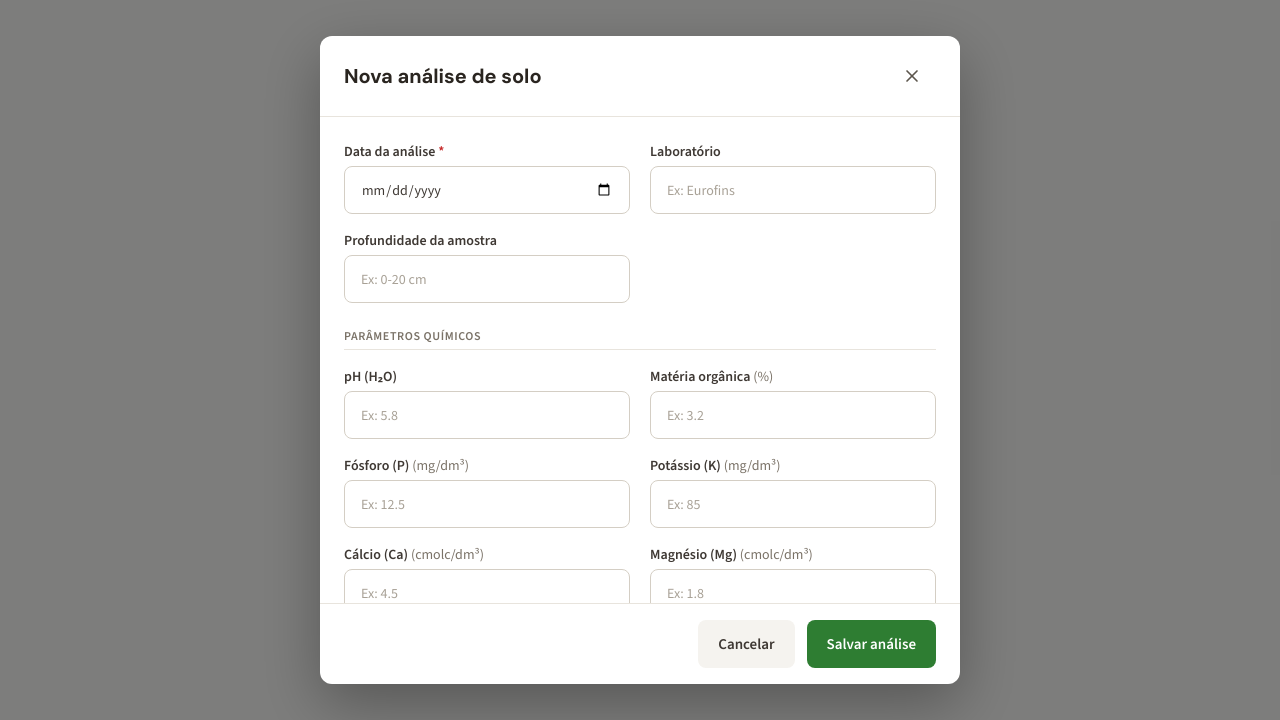
Test: AddSoilAnalysisModal › shows error state on API failure
Type "2026-01-15" into the date field labelled "Data da análise *".
click(487, 190); type("2026-01-15")  # box [344,166,630,214]
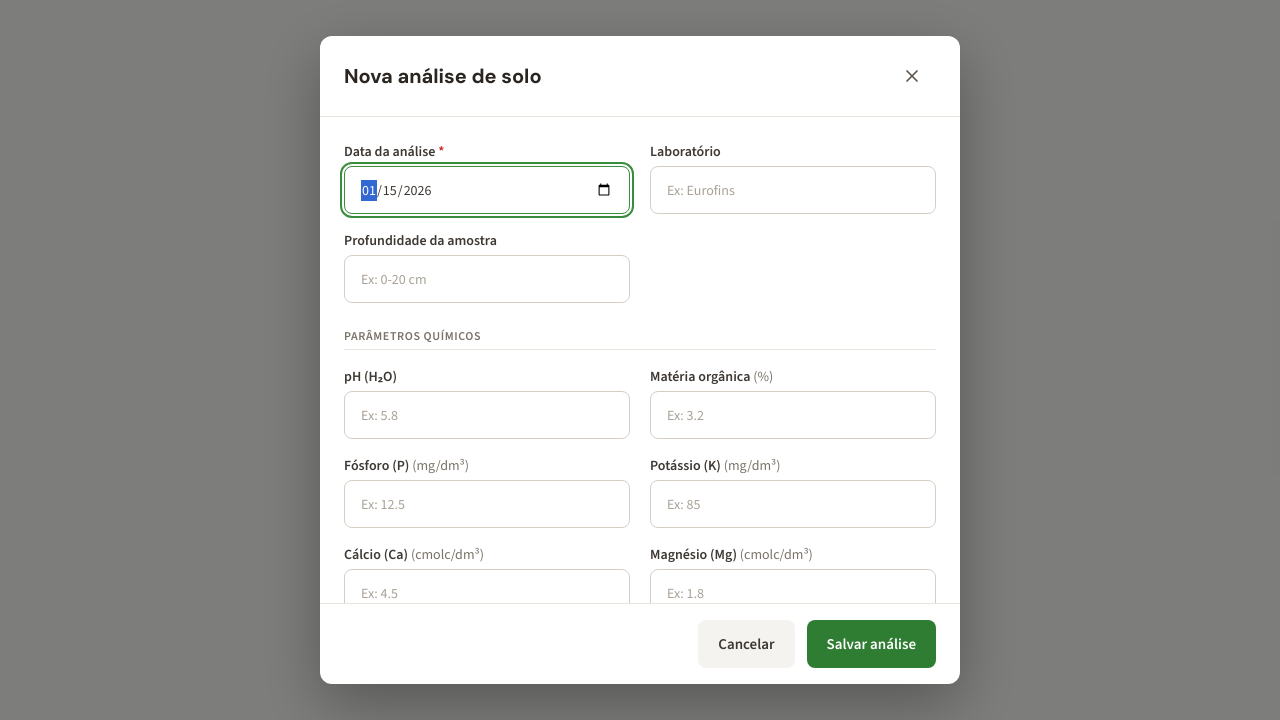
Click the button "Salvar análise".
click(871, 644)  # box [807,620,936,668]
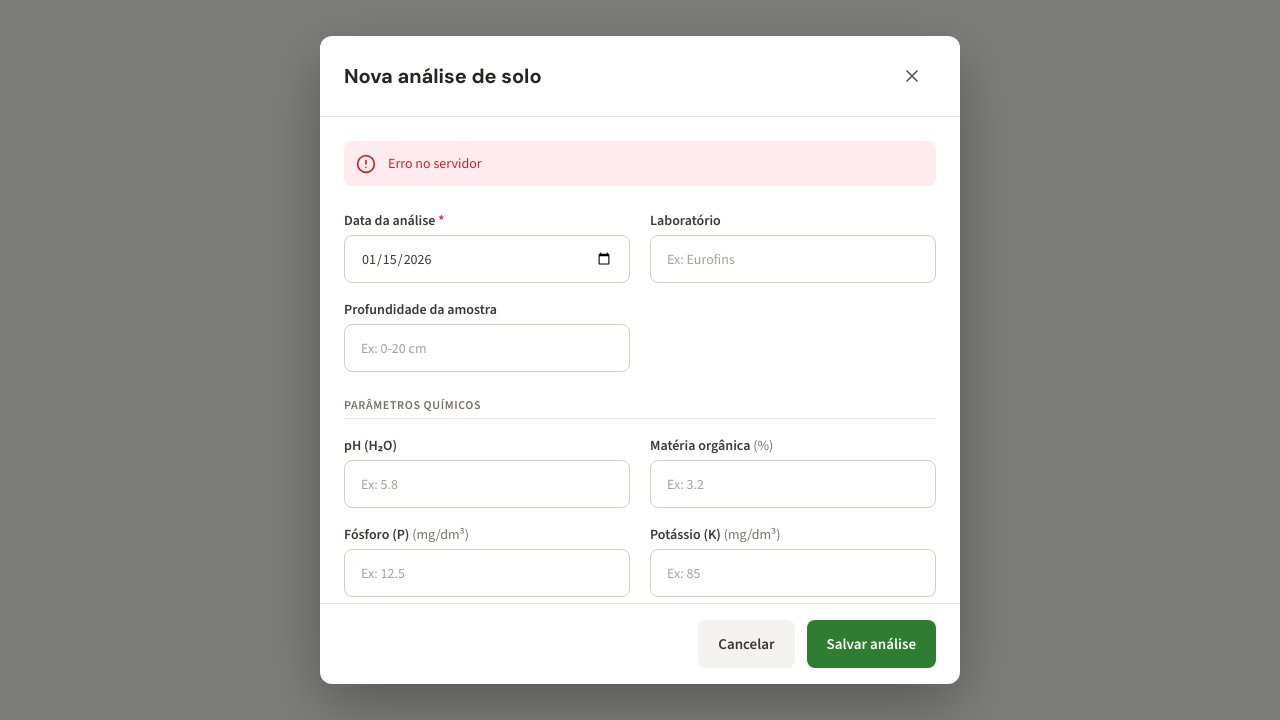
Check: the message reads "Erro no servidor", box [388,154,482,173]
